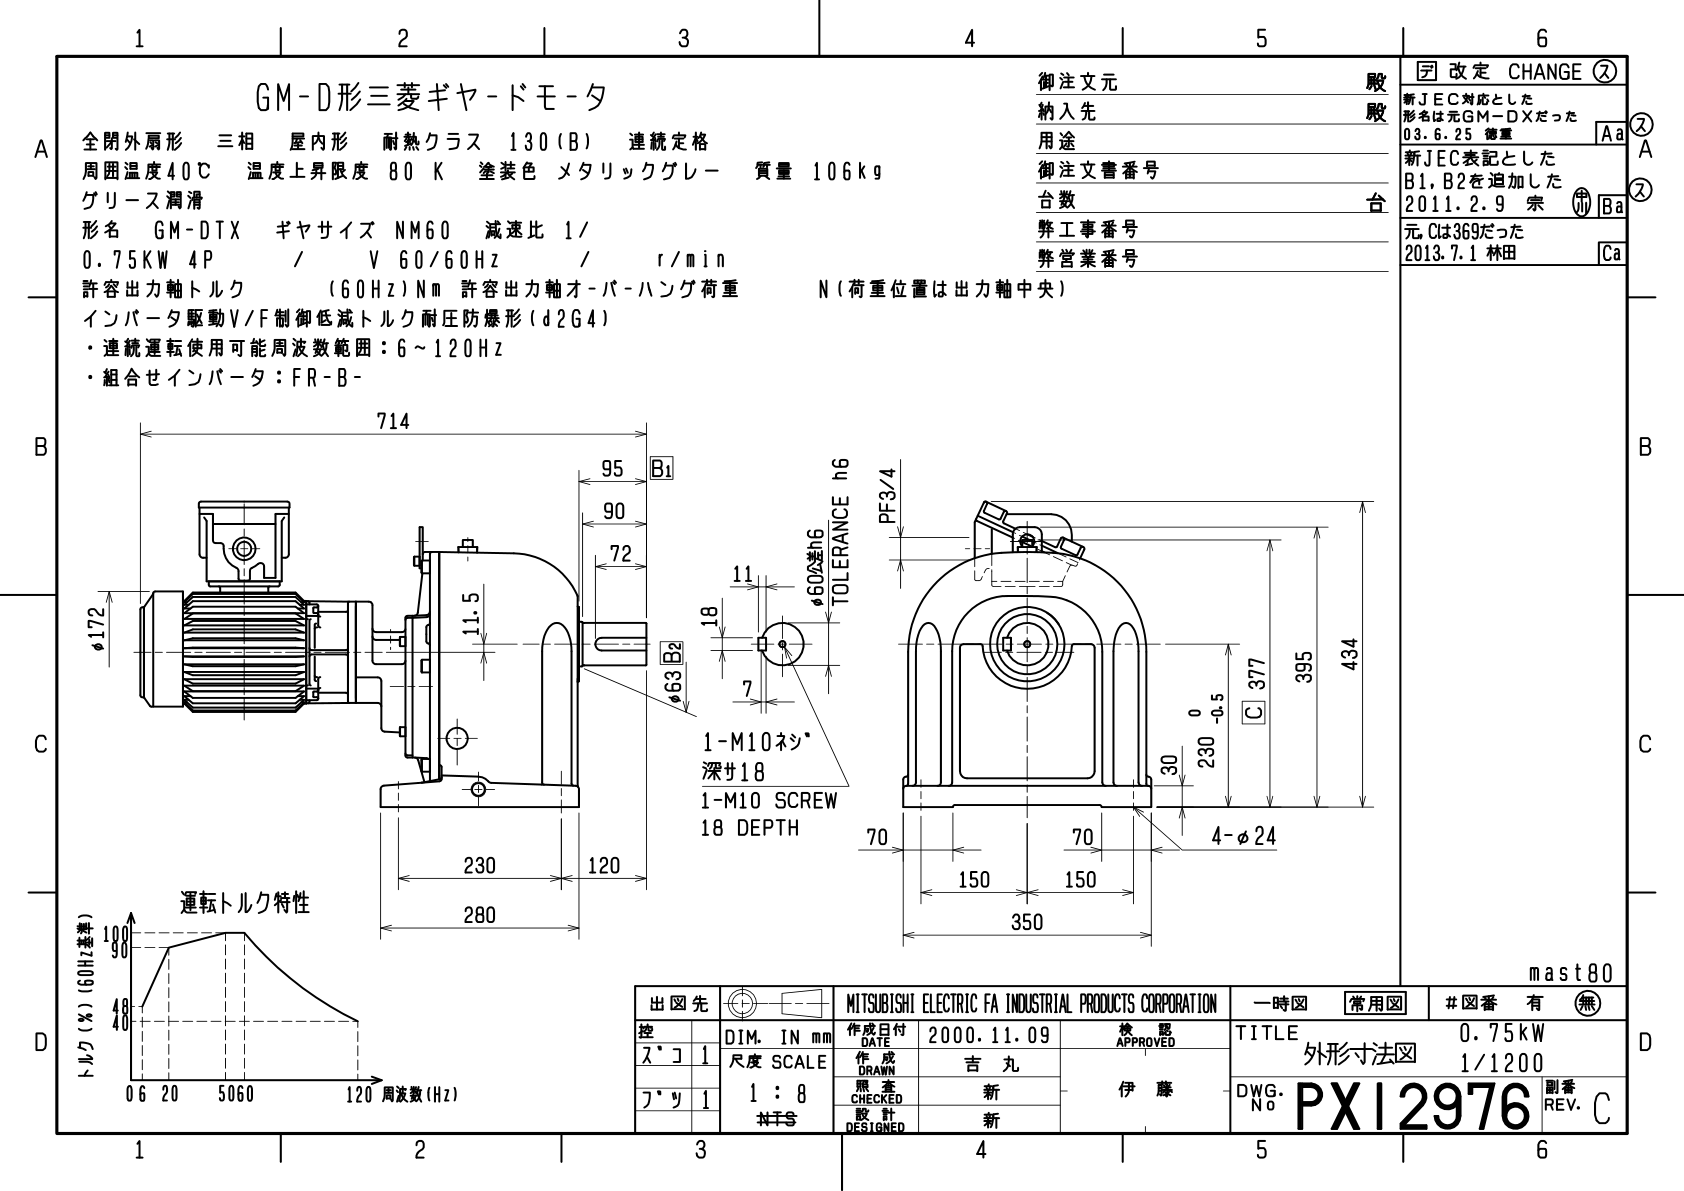GM_D_制御屋内_三相_脚: (6, 8, 1684, 1191)
